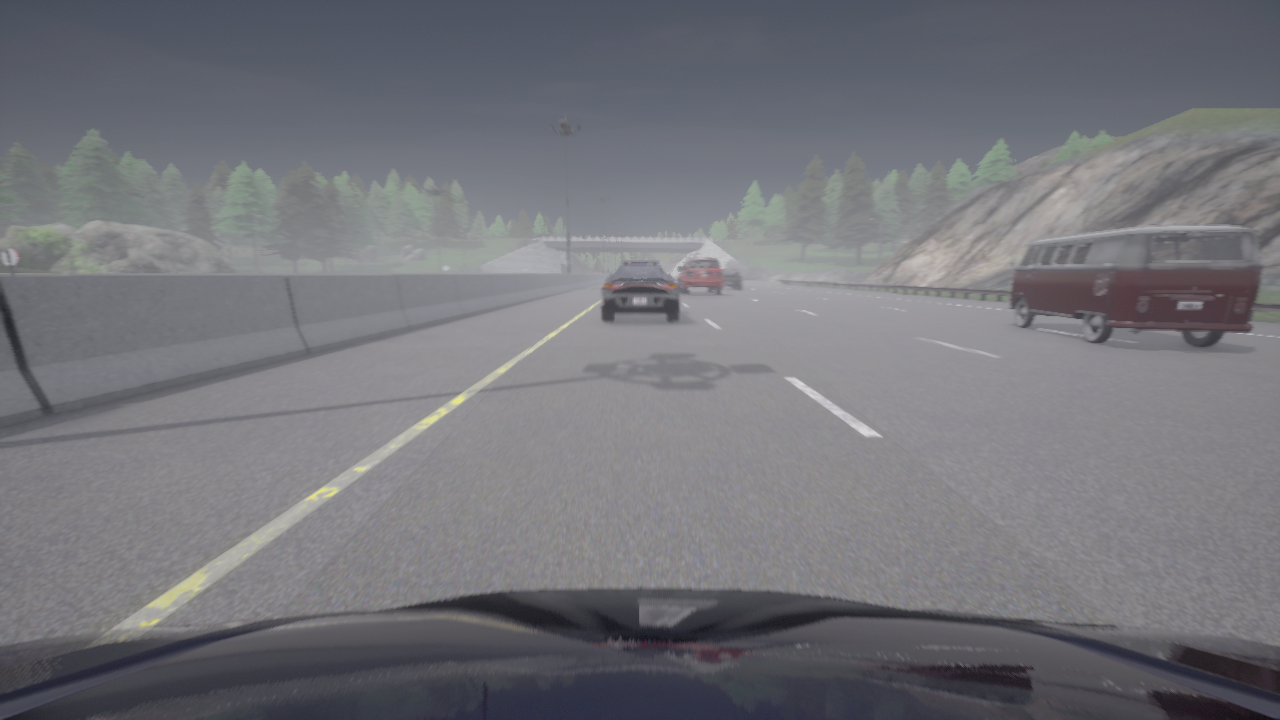cyclist: (0, 588, 1279, 719), (1007, 224, 1262, 346), (601, 261, 678, 321), (678, 258, 722, 294), (722, 269, 741, 289)
